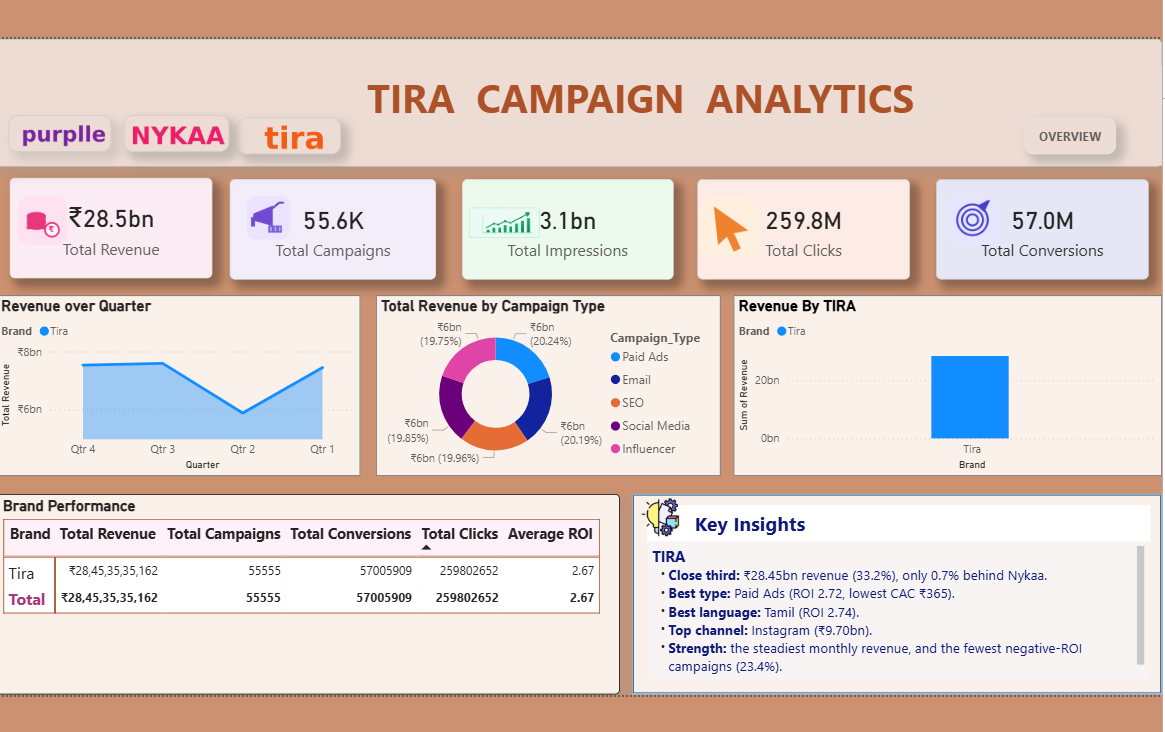

This screenshot's page, from the dashboard's own definition file:
{"tool":"powerbi","page":{"name":"TIRA","canvas":[1280,720],"ordinal":3},"visuals":[{"type":"card","fields":{"Values":["Tira_Purplle_Nykaa_Marketing_Campaign_Analytics_166665.Total Campaigns"]},"box":[256.7,153.3,226.7,110],"z":0},{"type":"card","fields":{"Values":["Tira_Purplle_Nykaa_Marketing_Campaign_Analytics_166665.Total Impressions"]},"box":[511.7,153.3,231.7,110],"z":1000},{"type":"card","fields":{"Values":["Tira_Purplle_Nykaa_Marketing_Campaign_Analytics_166665.Total Revenue"]},"box":[14.7,152.9,222.6,110.1],"z":2000},{"type":"card","fields":{"Values":["Tira_Purplle_Nykaa_Marketing_Campaign_Analytics_166665.Total Clicks"]},"box":[770,153.3,233.3,110],"z":3000},{"type":"card","fields":{"Values":["Tira_Purplle_Nykaa_Marketing_Campaign_Analytics_166665.Total Conversions"]},"box":[1031.7,153.3,233.3,110],"z":4000},{"type":"textbox","box":[0,0,1280.3,140],"z":5000},{"type":"areaChart","title":"Revenue over Quarter","fields":{"Category":["Tira_Purplle_Nykaa_Marketing_Campaign_Analytics_166665.Date.Variation.Date Hierarchy.Year","Tira_Purplle_Nykaa_Marketing_Campaign_Analytics_166665.Date.Variation.Date Hierarchy.Quarter","Tira_Purplle_Nykaa_Marketing_Campaign_Analytics_166665.Date.Variation.Date Hierarchy.Month","Tira_Purplle_Nykaa_Marketing_Campaign_Analytics_166665.Date.Variation.Date Hierarchy.Day"],"Y":["Tira_Purplle_Nykaa_Marketing_Campaign_Analytics_166665.Total Revenue"],"Series":["Tira_Purplle_Nykaa_Marketing_Campaign_Analytics_166665.Brand"]},"box":[0,281.7,400,198.3],"z":6000},{"type":"donutChart","title":"Total Revenue by Campaign Type","fields":{"Category":["Tira_Purplle_Nykaa_Marketing_Campaign_Analytics_166665.Campaign_Type"],"Y":["Tira_Purplle_Nykaa_Marketing_Campaign_Analytics_166665.Total Revenue"]},"box":[416.7,281.7,378.3,198.3],"z":7000},{"type":"clusteredColumnChart","title":"Revenue By TIRA","fields":{"Y":["Sum(Tira_Purplle_Nykaa_Marketing_Campaign_Analytics_166665.Revenue)"],"Category":["Tira_Purplle_Nykaa_Marketing_Campaign_Analytics_166665.Brand"],"Series":["Tira_Purplle_Nykaa_Marketing_Campaign_Analytics_166665.Brand"]},"box":[810,281.7,470,198.3],"z":8000},{"type":"pivotTable","title":"Brand Performance","fields":{"Rows":["Tira_Purplle_Nykaa_Marketing_Campaign_Analytics_166665.Brand"],"Values":["Tira_Purplle_Nykaa_Marketing_Campaign_Analytics_166665.Total Revenue","Tira_Purplle_Nykaa_Marketing_Campaign_Analytics_166665.Total Campaigns","Tira_Purplle_Nykaa_Marketing_Campaign_Analytics_166665.Total Conversions","Tira_Purplle_Nykaa_Marketing_Campaign_Analytics_166665.Total Clicks","Tira_Purplle_Nykaa_Marketing_Campaign_Analytics_166665.Average ROI"]},"box":[0,500.1,684.8,220.1],"z":9000},{"type":"shape","box":[698.3,500,581.7,220],"z":10000},{"type":"textbox","box":[715,511.7,551.7,40],"z":11000},{"type":"image","box":[114.9,63.6,168.8,81.9],"z":12000},{"type":"image","box":[0,64.8,149.2,81.9],"z":13000},{"type":"image","box":[222.6,6.1,211.6,201.8],"z":14000},{"type":"image","box":[1002.7,163.9,137,70.9],"z":15000},{"type":"image","box":[761.7,163.3,86.7,86.7],"z":16000},{"type":"image","box":[256.8,163.9,84.4,66],"z":17000},{"type":"image","box":[14.7,121.1,72.1,156.5],"z":18000},{"type":"image","box":[511.7,140,93.3,123.3],"z":19000},{"type":"image","box":[681.7,500,95,51.7],"z":20000},{"type":"textbox","box":[379.1,30.6,901.2,108.8],"z":21000},{"type":"actionButton","title":" VVVVV","box":[1128.7,86.8,100.3,40.4],"z":22000},{"type":"actionButton","box":[13.5,84.4,112.5,40.4],"z":23000},{"type":"actionButton","box":[140.6,84.4,116.2,40.4],"z":24000},{"type":"actionButton","box":[265.4,86.8,113.7,40.4],"z":25000},{"type":"textbox","box":[714.9,551.6,550.3,153.7],"z":26000}]}

Visuals, with their boxes on the page's 1280x720 design canvas (x1, y1, x2, y2). These are canvas units, not pixel positions in the 1165x732 screenshot, which may show the page scaled, cropped or inside an application window:
card - Tira_Purplle_Nykaa_Marketing_Campaign_Analytics_166665.Total Campaigns: bbox=(257, 153, 483, 263)
card - Tira_Purplle_Nykaa_Marketing_Campaign_Analytics_166665.Total Impressions: bbox=(512, 153, 743, 263)
card - Tira_Purplle_Nykaa_Marketing_Campaign_Analytics_166665.Total Revenue: bbox=(15, 153, 237, 263)
card - Tira_Purplle_Nykaa_Marketing_Campaign_Analytics_166665.Total Clicks: bbox=(770, 153, 1003, 263)
card - Tira_Purplle_Nykaa_Marketing_Campaign_Analytics_166665.Total Conversions: bbox=(1032, 153, 1265, 263)
textbox: bbox=(0, 0, 1280, 140)
"Revenue over Quarter" areaChart: bbox=(0, 282, 400, 480)
"Total Revenue by Campaign Type" donutChart: bbox=(417, 282, 795, 480)
"Revenue By TIRA" clusteredColumnChart: bbox=(810, 282, 1280, 480)
"Brand Performance" pivotTable: bbox=(0, 500, 685, 720)
shape: bbox=(698, 500, 1280, 720)
textbox: bbox=(715, 512, 1267, 552)
image: bbox=(115, 64, 284, 146)
image: bbox=(0, 65, 149, 147)
image: bbox=(223, 6, 434, 208)
image: bbox=(1003, 164, 1140, 235)
image: bbox=(762, 163, 848, 250)
image: bbox=(257, 164, 341, 230)
image: bbox=(15, 121, 87, 278)
image: bbox=(512, 140, 605, 263)
image: bbox=(682, 500, 777, 552)
textbox: bbox=(379, 31, 1280, 139)
" VVVVV" actionButton: bbox=(1129, 87, 1229, 127)
actionButton: bbox=(14, 84, 126, 125)
actionButton: bbox=(141, 84, 257, 125)
actionButton: bbox=(265, 87, 379, 127)
textbox: bbox=(715, 552, 1265, 705)
